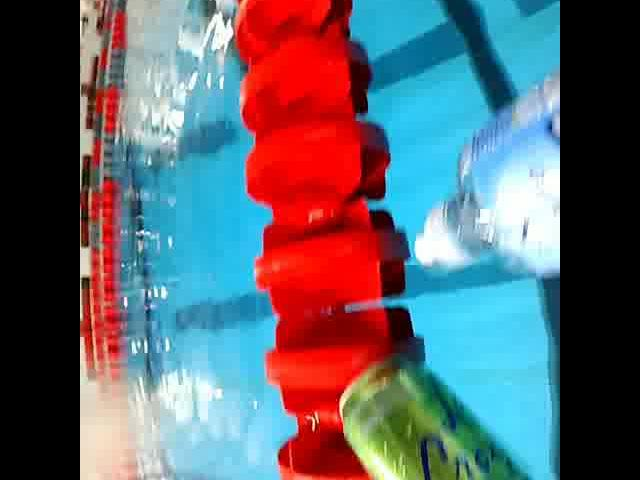Bottle: (406, 58, 560, 308)
Can: (311, 357, 559, 480)
